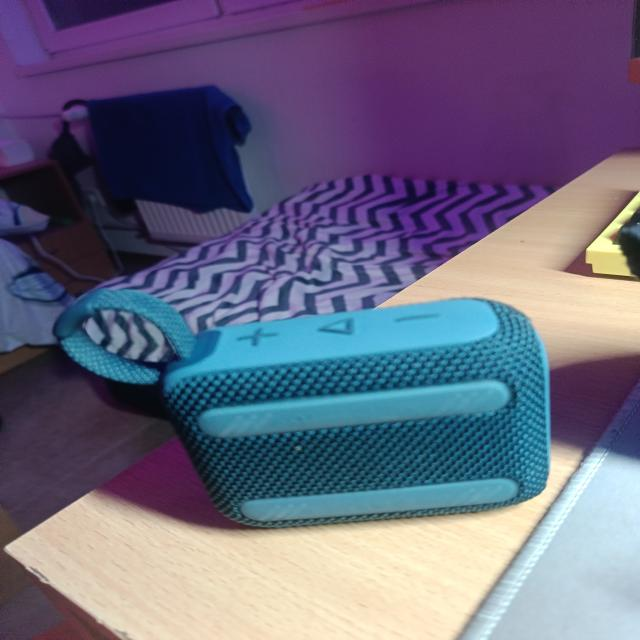column JBL: (54, 288, 550, 527)
